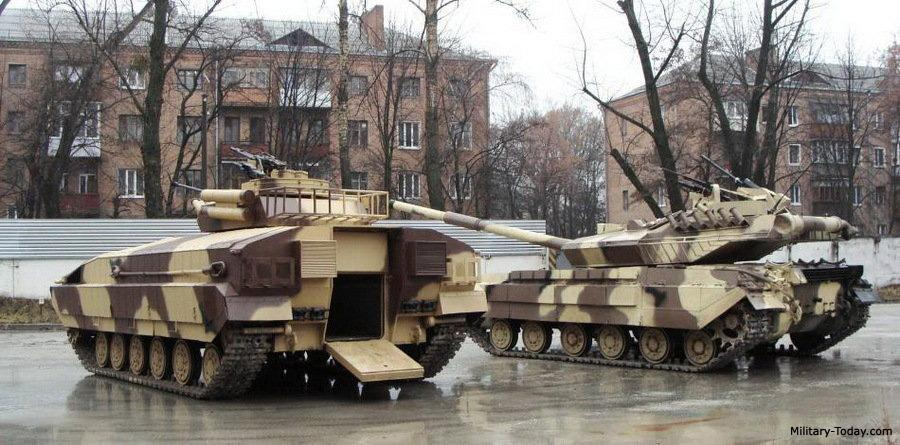tank: (49, 145, 489, 400), (390, 152, 876, 374)
